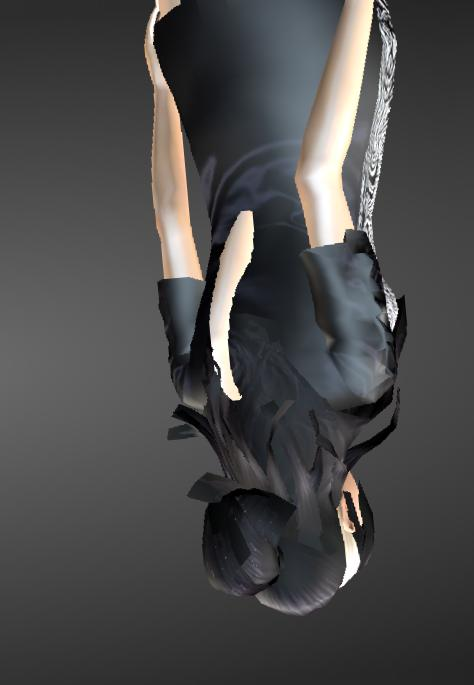clip: (223, 196, 267, 289)
